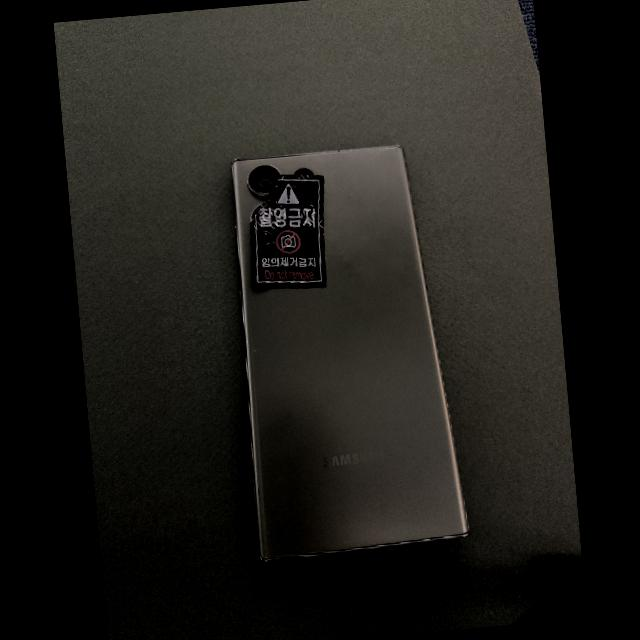lens: (250, 166, 278, 195), (250, 204, 262, 222), (295, 169, 313, 174)
phone: (232, 144, 469, 561)
sticker: (249, 174, 326, 290)
